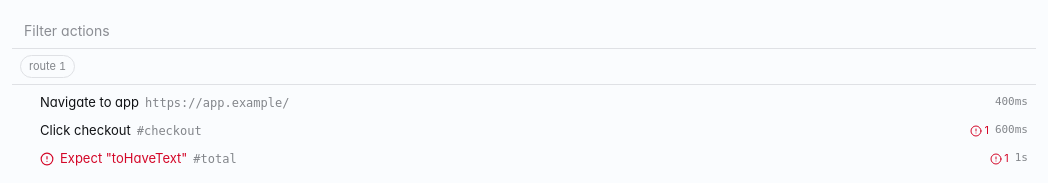
ActionList — search › narrows to title matches
In the search field labelled "Filter actions": (524, 30) x1=12 y1=12 x2=1036 y2=48, type "checkout"
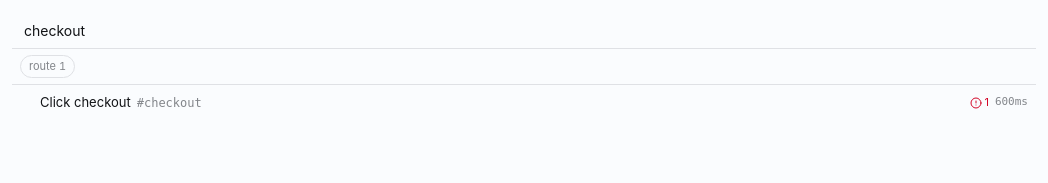
Check: the text "Click checkout" is shown, box x1=40 y1=93 x2=131 y2=112
Check: the option "Navigate to app" is gone
Check: the option "Expect \"toHaveText\"" is gone
